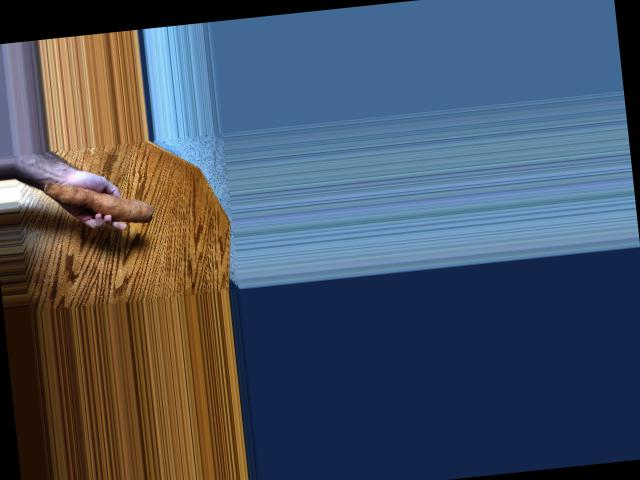sweet_potato: (41, 168, 156, 234)
